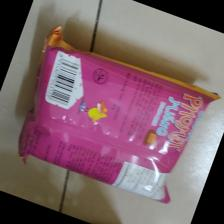Oishi_phomat: (17, 25, 222, 208)
